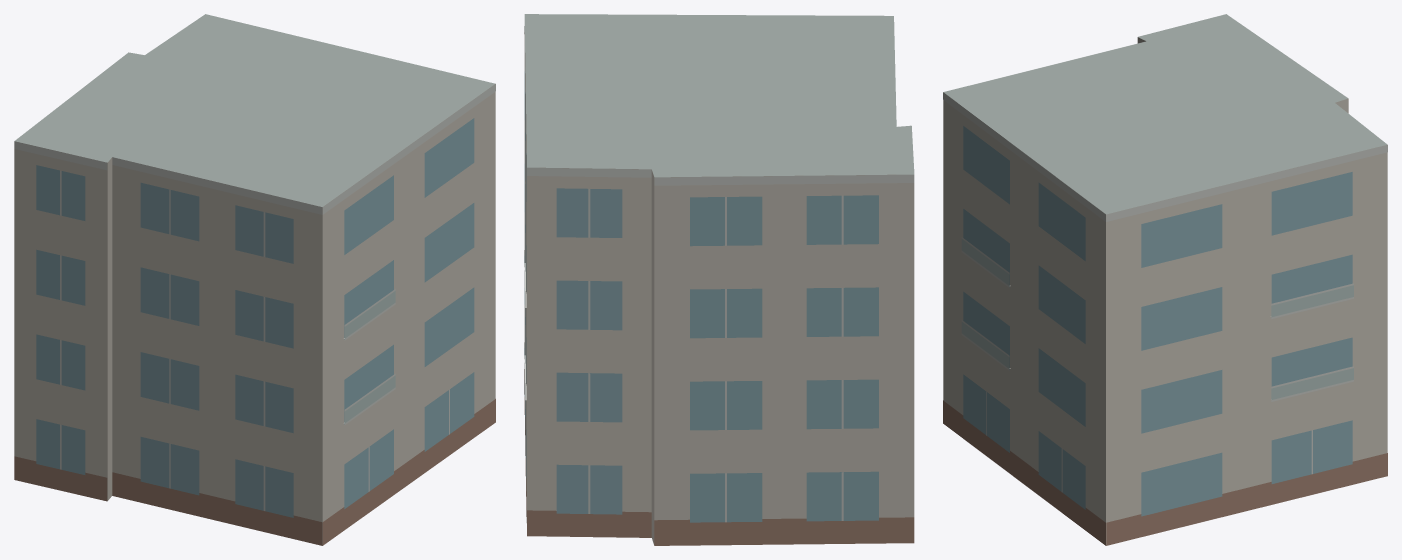
Rendered from survey-upis-32678887.glb.
3 views of the same model, side by side, from view 1: azimuth 30°, elevation 25°; view 2: azimuth 150°, elevation 25°; view 3: azimuth 270°, elevation 25° (orthographic). The views are drawn at different scales.
Parts seen in each view (by area): view 1: survey-upis-32678887.tmp; view 2: survey-upis-32678887.tmp; view 3: survey-upis-32678887.tmp.
Boxes of the visible parts, x1,y1,x2,y2 form: survey-upis-32678887.tmp: (14, 14, 495, 545); survey-upis-32678887.tmp: (524, 14, 914, 545); survey-upis-32678887.tmp: (943, 14, 1387, 545).
Size of the model in its own units: 13.76 by 10.6 by 12.9.
